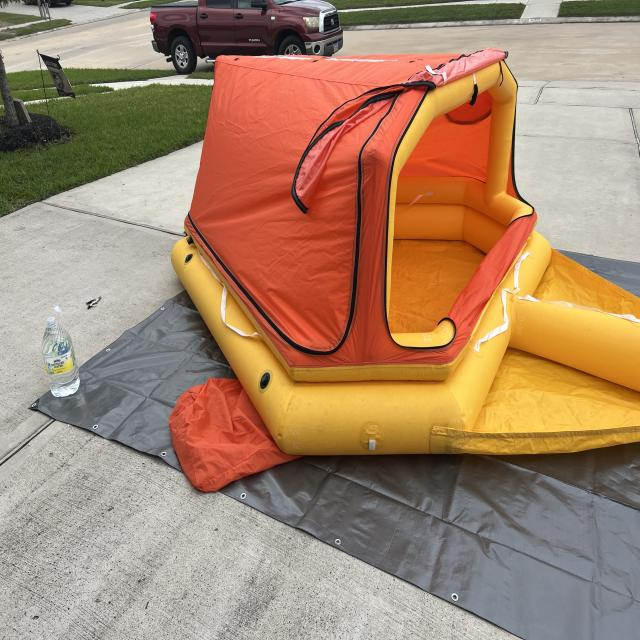Multi-person_life_raft: (167, 48, 640, 495)
